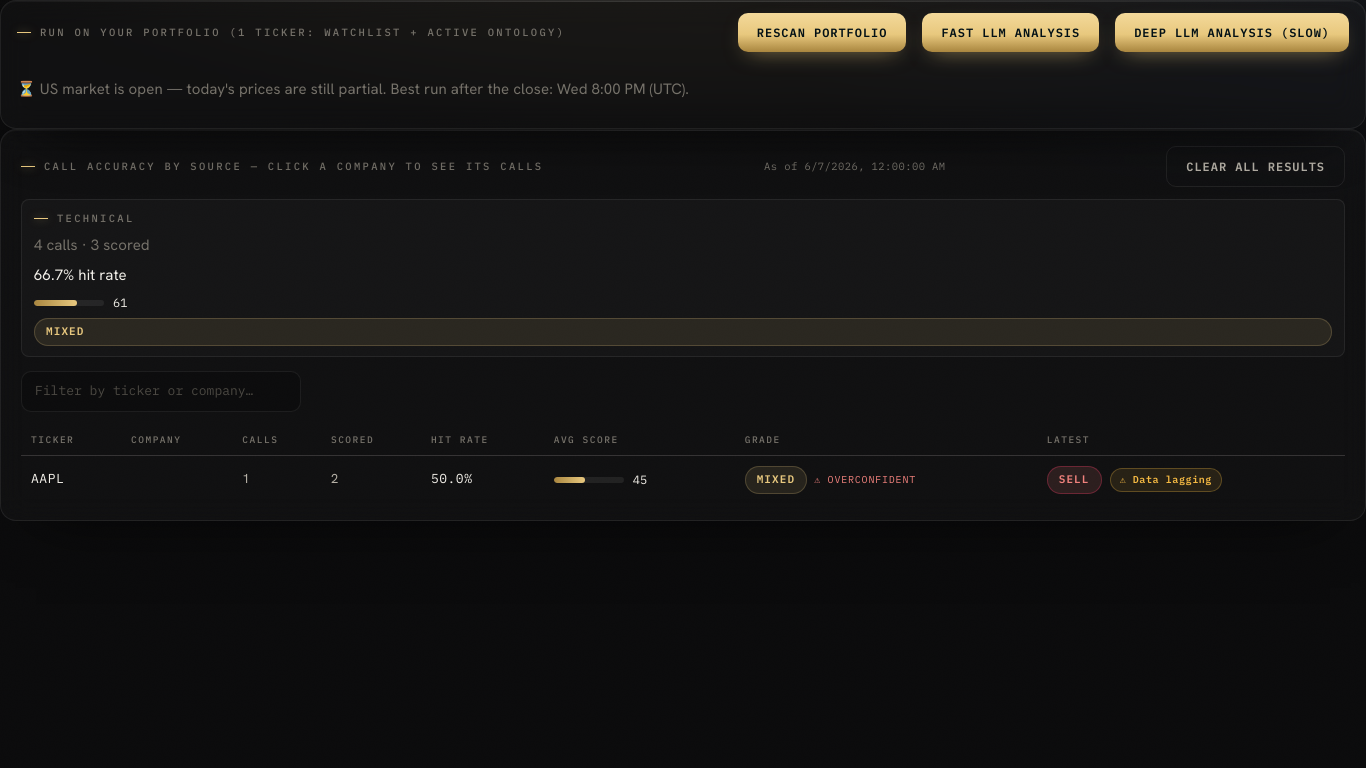
Test: Evaluation page › renders SourceScoreboard cards and filter empty-state
Expected: the text "66.7% hit rate" is shown, x1=34 y1=265 x2=127 y2=285
Expected: the text "4 calls · 3 scored" is shown, x1=34 y1=235 x2=150 y2=255
Click the text "AAPL" at (48, 479), box x1=21 y1=455 x2=121 y2=504
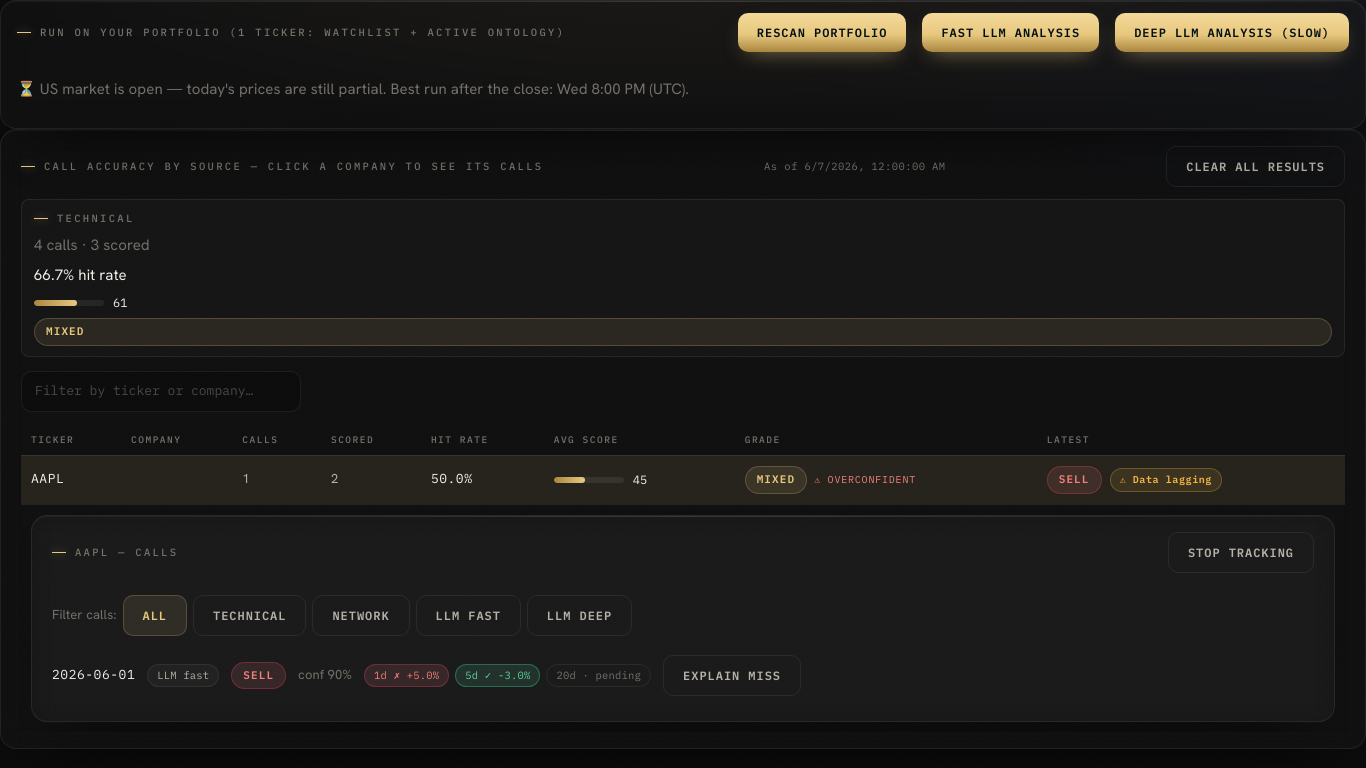
Expected: the text "Filter calls:" is shown, x1=52 y1=605 x2=116 y2=626
Click the button "LLM deep" at (580, 615), box x1=527 y1=595 x2=632 y2=636
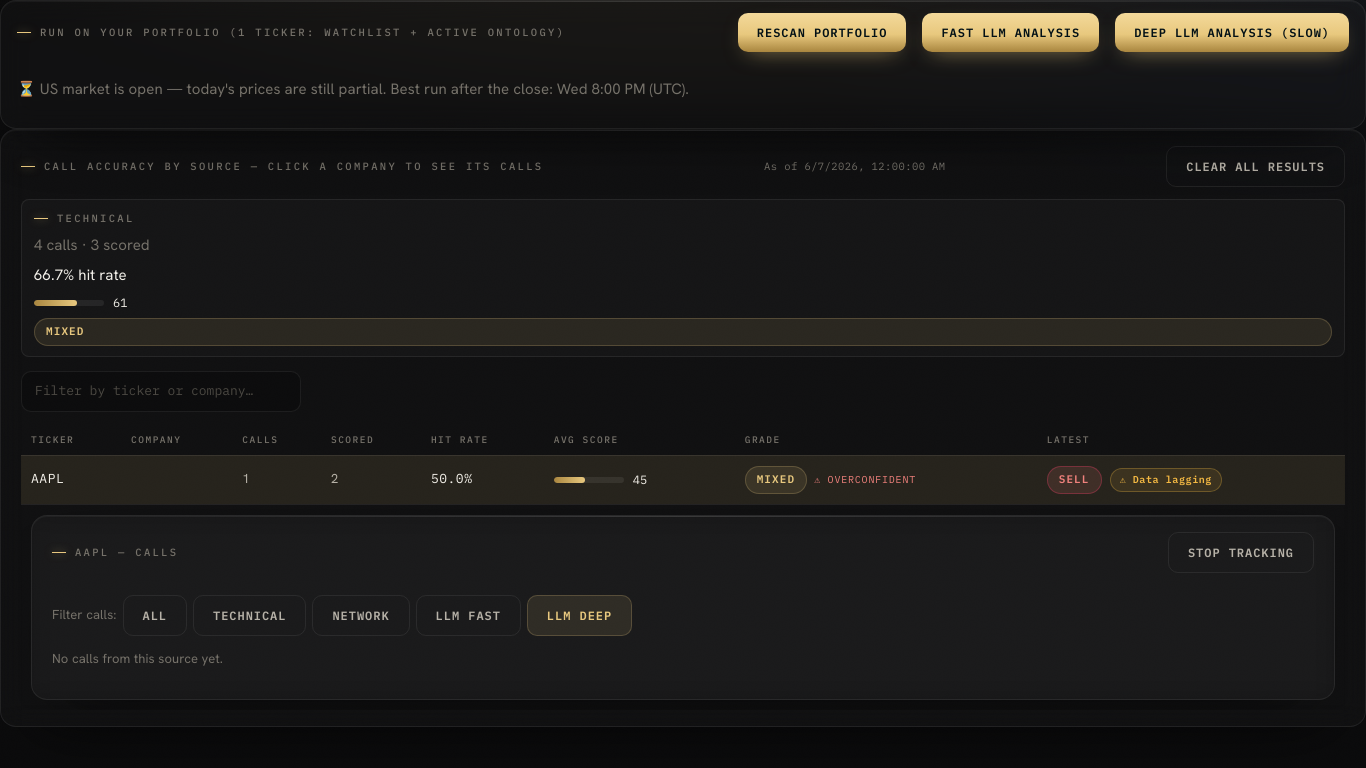
Expected: the text "No calls from this source yet." is shown, x1=52 y1=650 x2=223 y2=667
